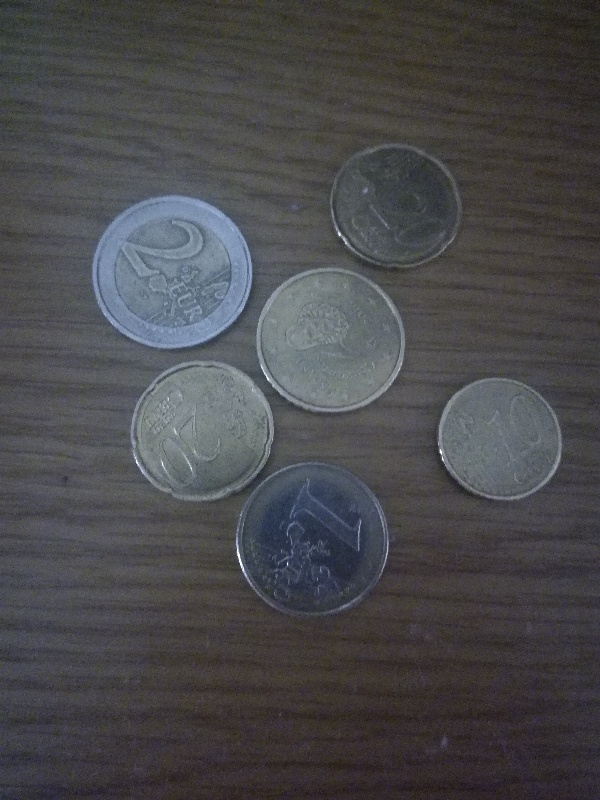1 euro: (235, 462, 393, 620)
10 centimos: (433, 375, 563, 502)
2 euros: (88, 193, 257, 351)
20 centimos: (129, 357, 275, 505), (328, 143, 463, 272)
50 centimos: (253, 267, 407, 415)
